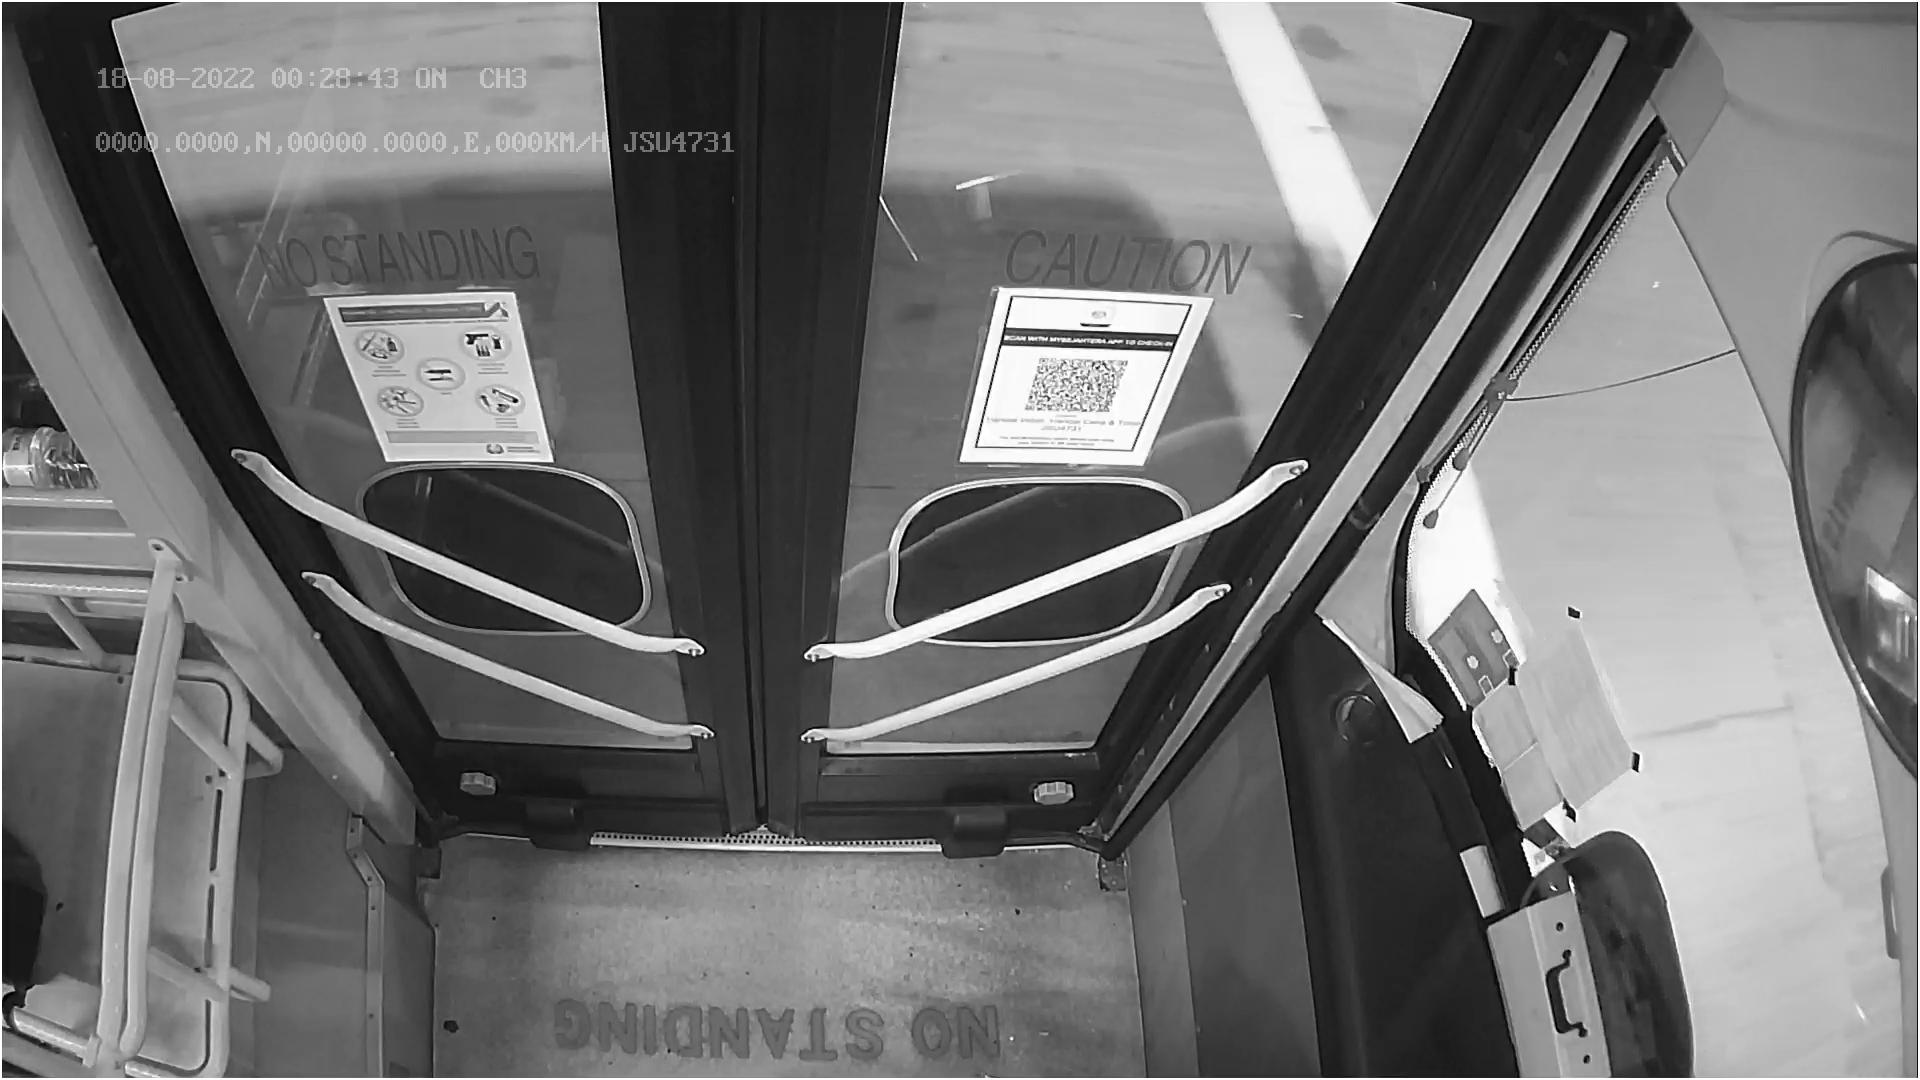close: (131, 0, 1441, 171)
